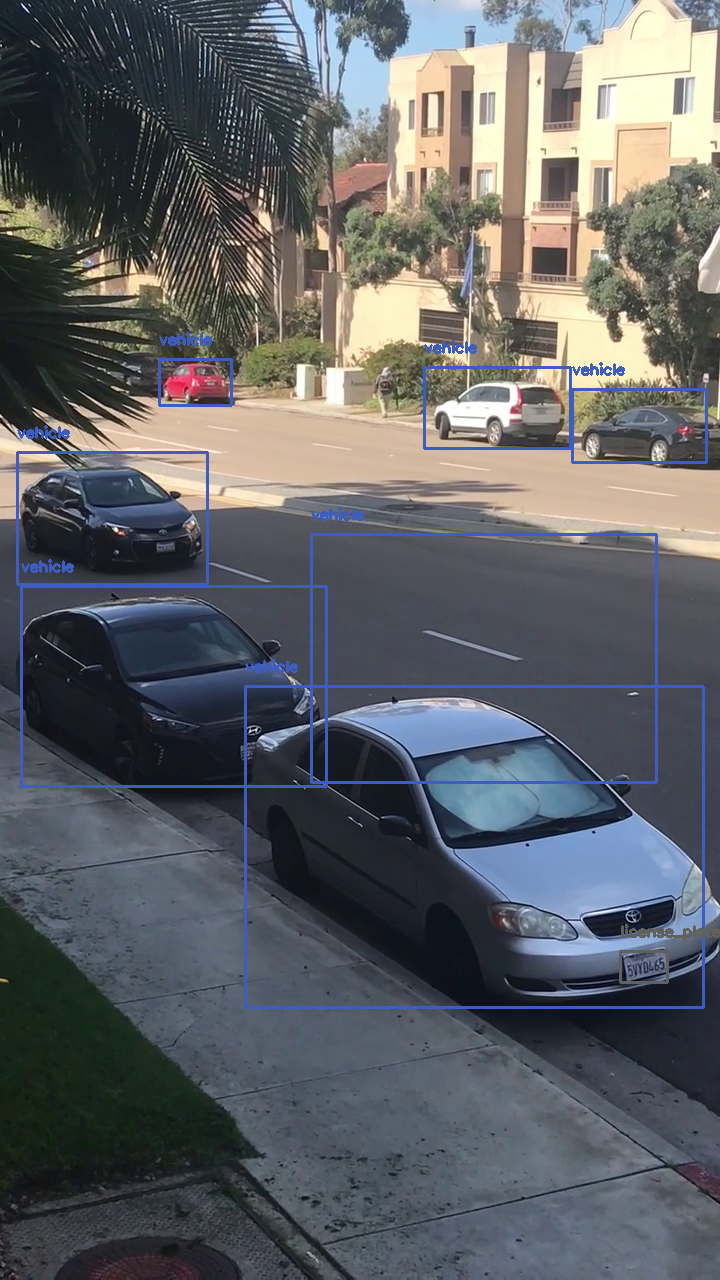license_plate: (620, 951, 667, 982)
vehicle: (245, 686, 703, 1007), (311, 534, 656, 782), (21, 586, 326, 786), (17, 452, 207, 584), (424, 367, 570, 448), (572, 389, 706, 462), (159, 359, 231, 405)
